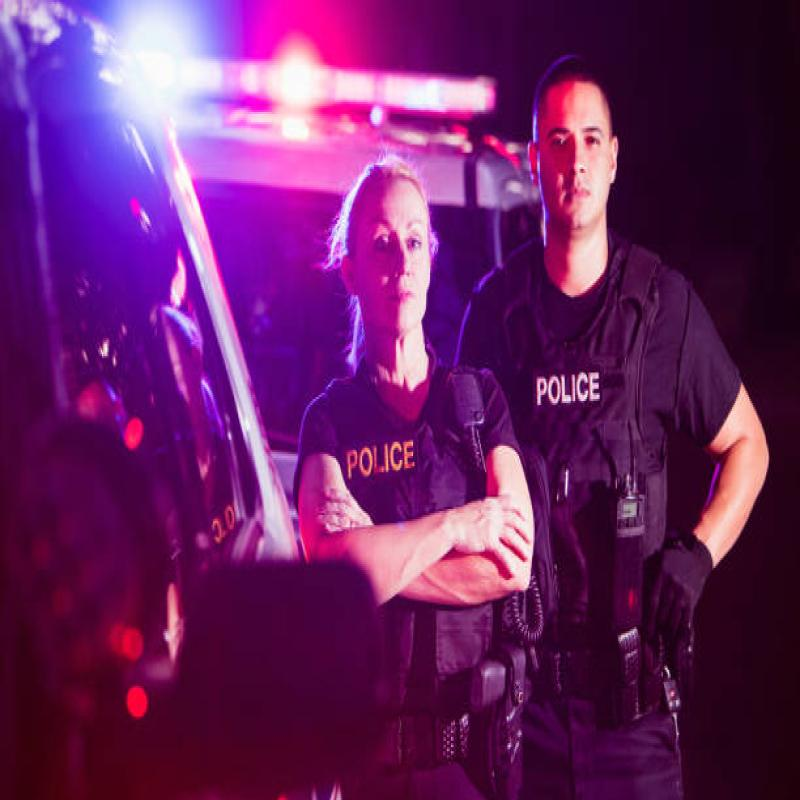AmbulanceSiren: (113, 0, 511, 159)
